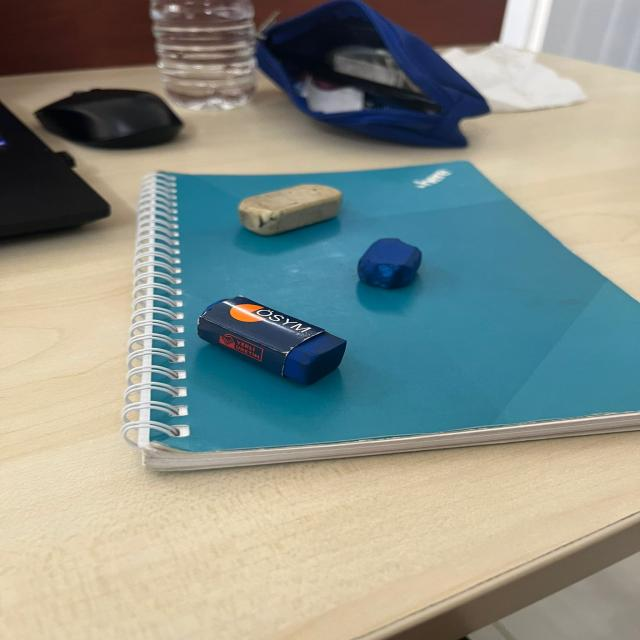eraser: (182, 288, 361, 392), (228, 178, 358, 236), (350, 233, 430, 299)
